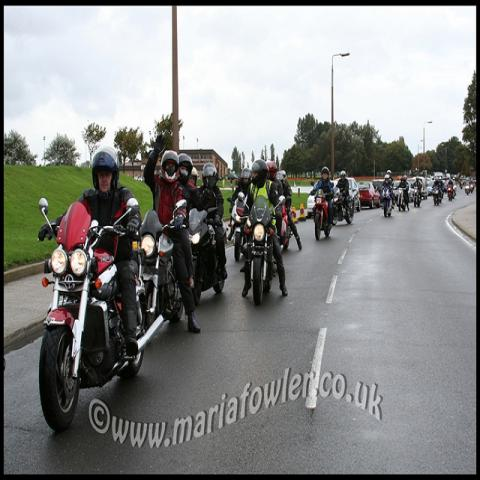car: (336, 178, 362, 211), (356, 181, 380, 209), (412, 176, 429, 200), (306, 196, 316, 220), (407, 180, 415, 201), (374, 180, 384, 196), (392, 180, 402, 192)
motorcycle: (39, 198, 164, 431), (236, 193, 288, 305), (139, 209, 185, 330), (188, 202, 230, 304), (311, 182, 336, 239), (227, 197, 246, 260), (332, 186, 355, 226), (380, 181, 394, 217), (410, 184, 423, 208), (397, 186, 406, 212), (433, 187, 442, 206), (447, 185, 456, 201)
